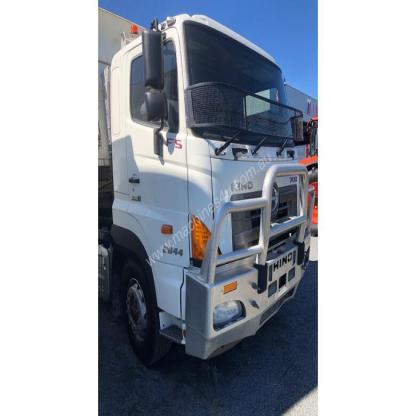dump_truck: (105, 10, 314, 374)
